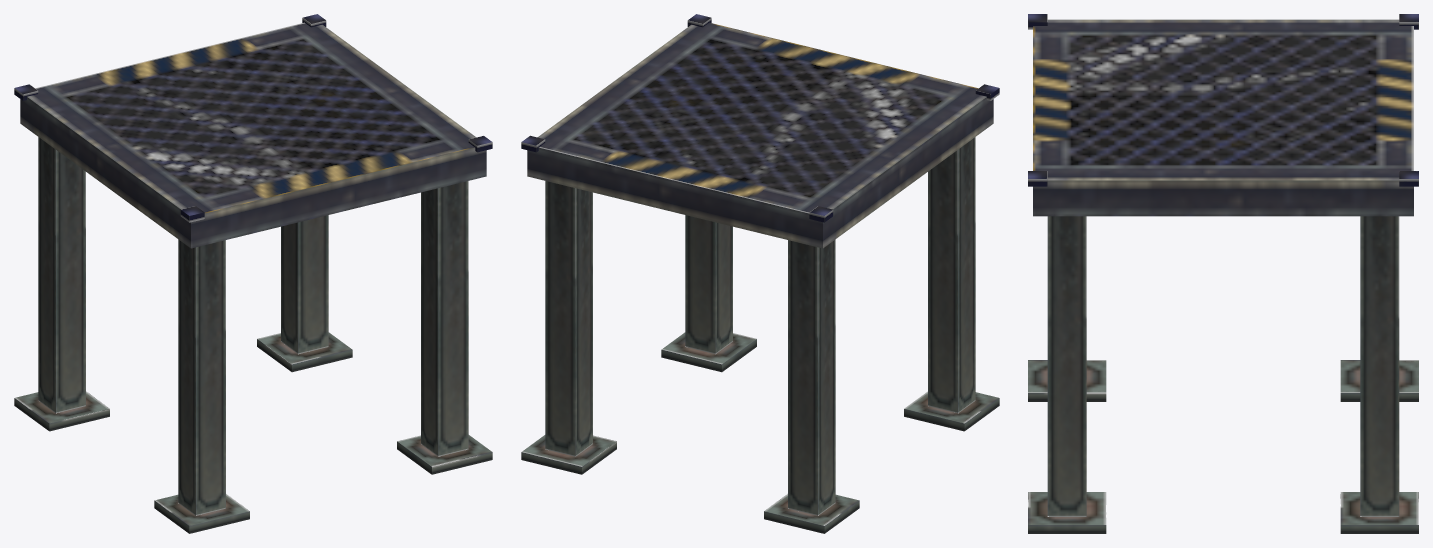
Rendered from MO_PLATAFORMAMETAL_02.fbx.
The picture shows the model from 3 angles, left to right: view 1: azimuth 30°, elevation 25°; view 2: azimuth 150°, elevation 25°; view 3: azimuth 270°, elevation 25°; orthographic projection. The views are drawn at different scales.
Visible parts, largest first — view 1: MO_PLATAFORMAMETAL_02; view 2: MO_PLATAFORMAMETAL_02; view 3: MO_PLATAFORMAMETAL_02.
Part boxes in pixels (x1=…): MO_PLATAFORMAMETAL_02: x1=14, y1=14, x2=492, y2=533; MO_PLATAFORMAMETAL_02: x1=521, y1=14, x2=999, y2=533; MO_PLATAFORMAMETAL_02: x1=1028, y1=14, x2=1418, y2=533.
Bounding box in the file's own units: 2 × 2 × 2.
